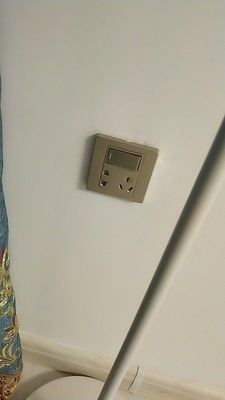switch: (102, 143, 143, 169)
